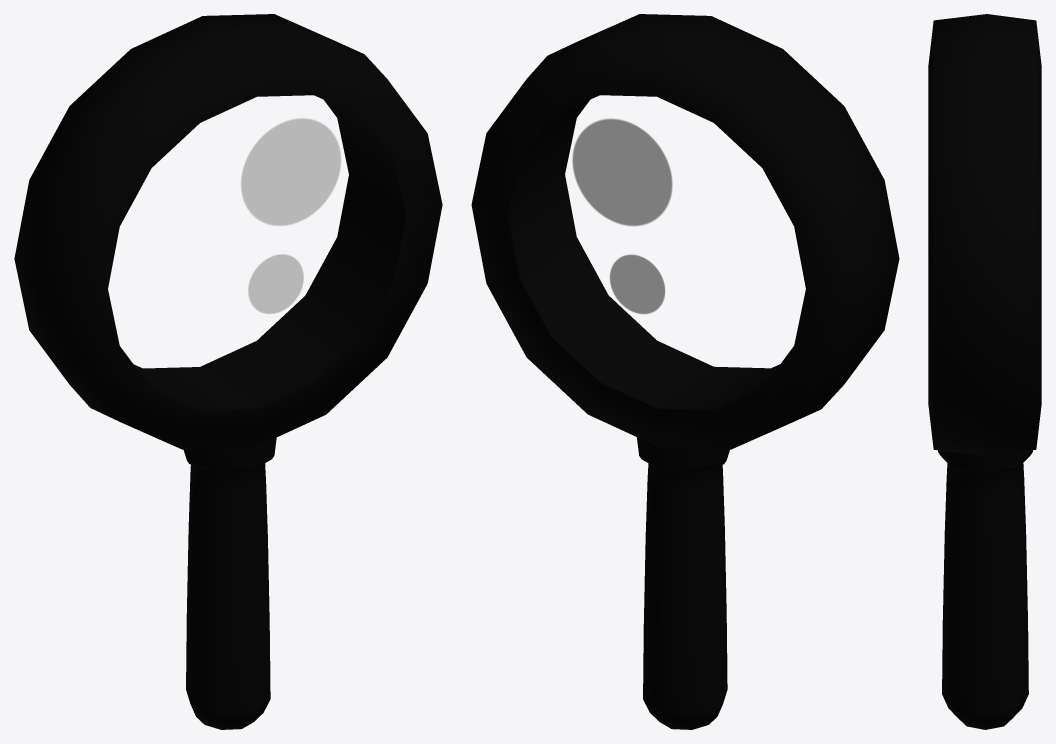
File: legacy_searching.glb
3 views of the same model, side by side, from view 1: azimuth 30°, elevation 25°; view 2: azimuth 150°, elevation 25°; view 3: azimuth 270°, elevation 25° (orthographic).
Parts seen in each view (by area): view 1: Loupe; view 2: Loupe; view 3: Loupe.
Boxes of the visible parts, <box> form: Loupe: <box>14,14,442,729</box>; Loupe: <box>471,14,899,729</box>; Loupe: <box>928,14,1041,729</box>.
Bounding box in the file's own units: 0.4675 × 0.8 × 0.1191.
1 material, 1 textured.
